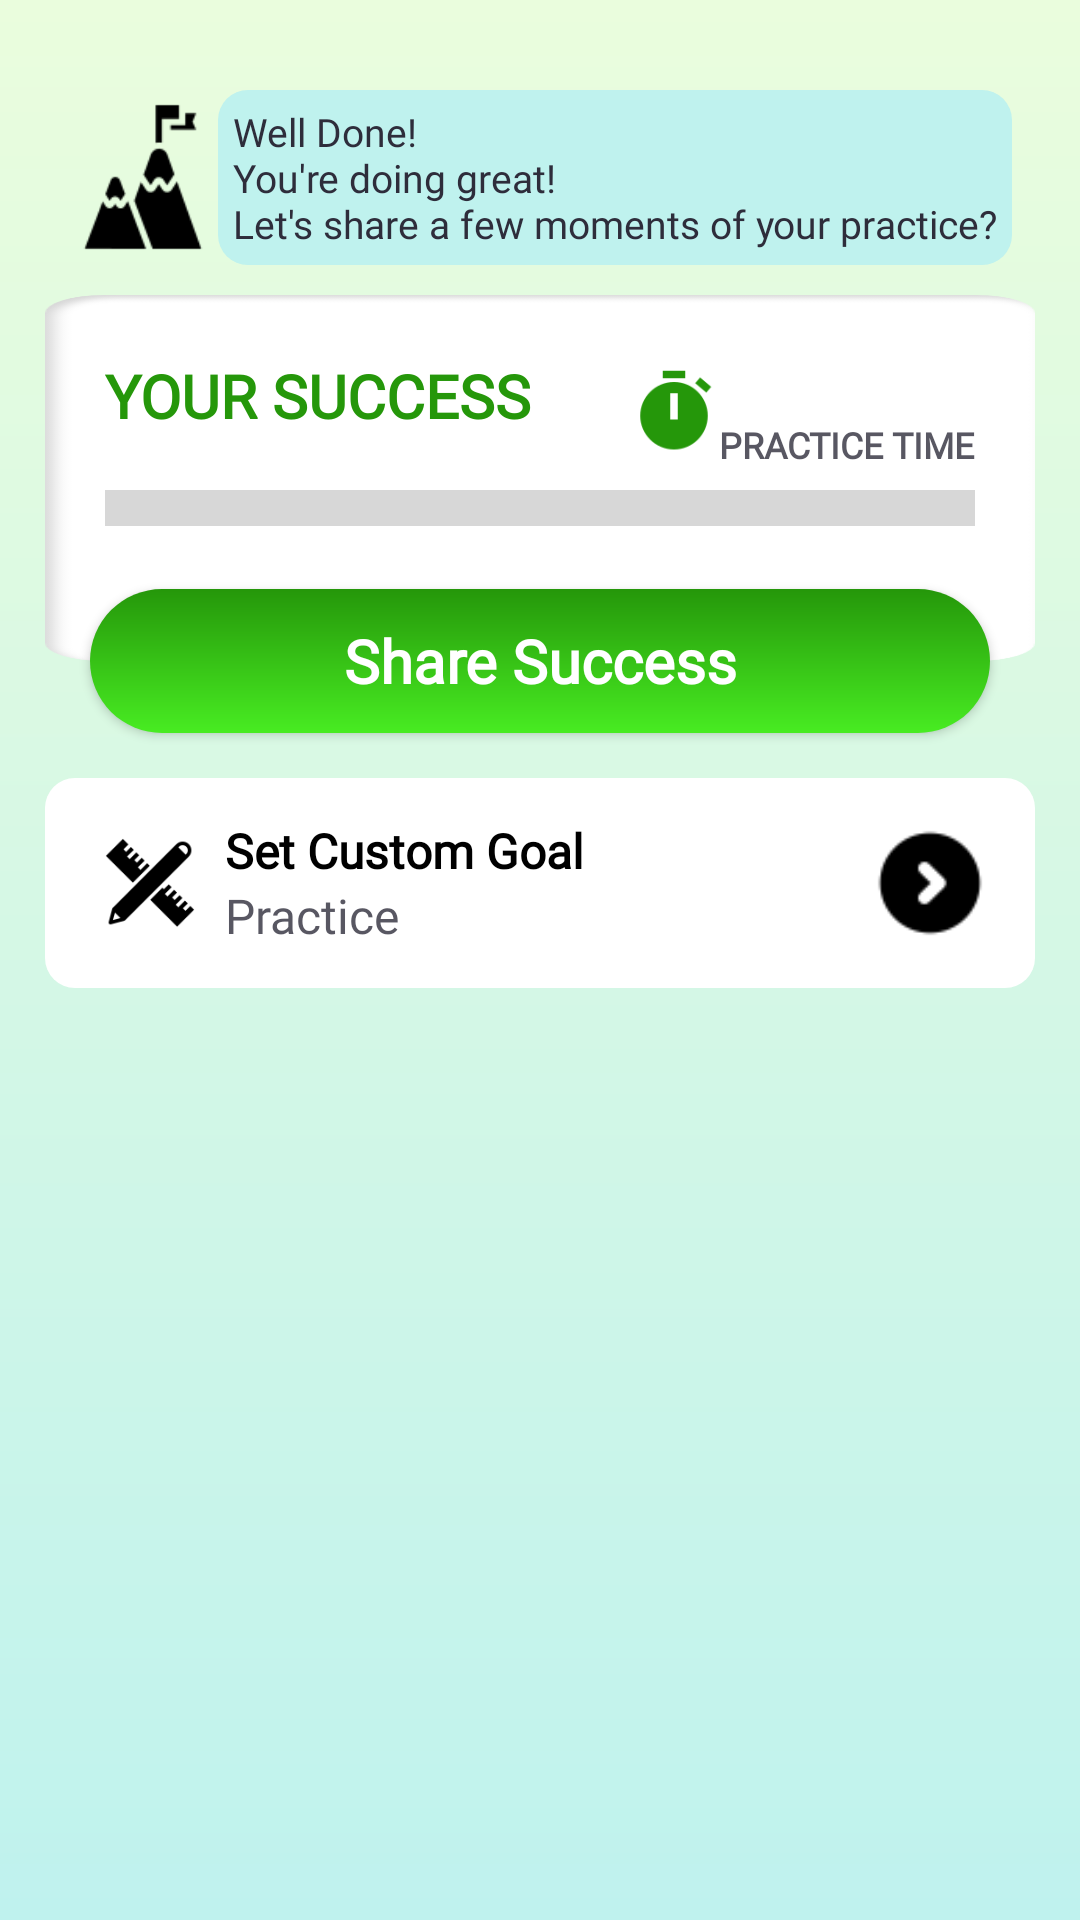

Icons on this 1080*1920 Android screen, each with the point to tap as (x,y):
achievement: (143,177)
clock: (676,410)
custom edit: (150,883)
custom goal next: (930,883)
